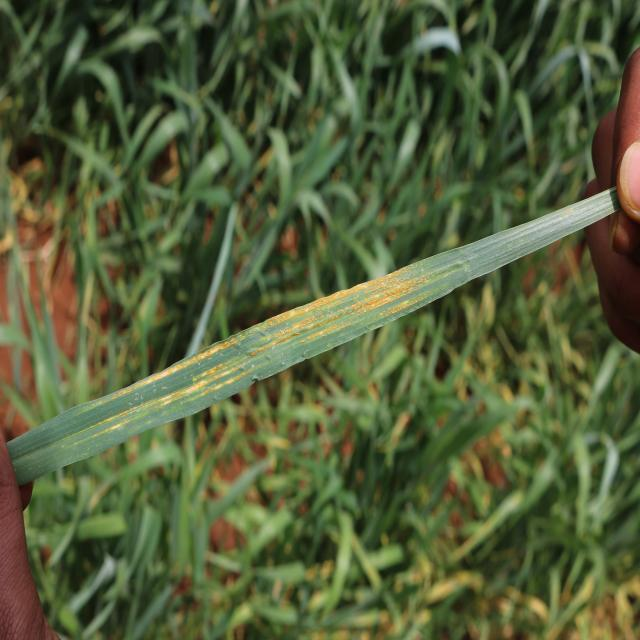Stripe Rust: (155, 255, 431, 405)
